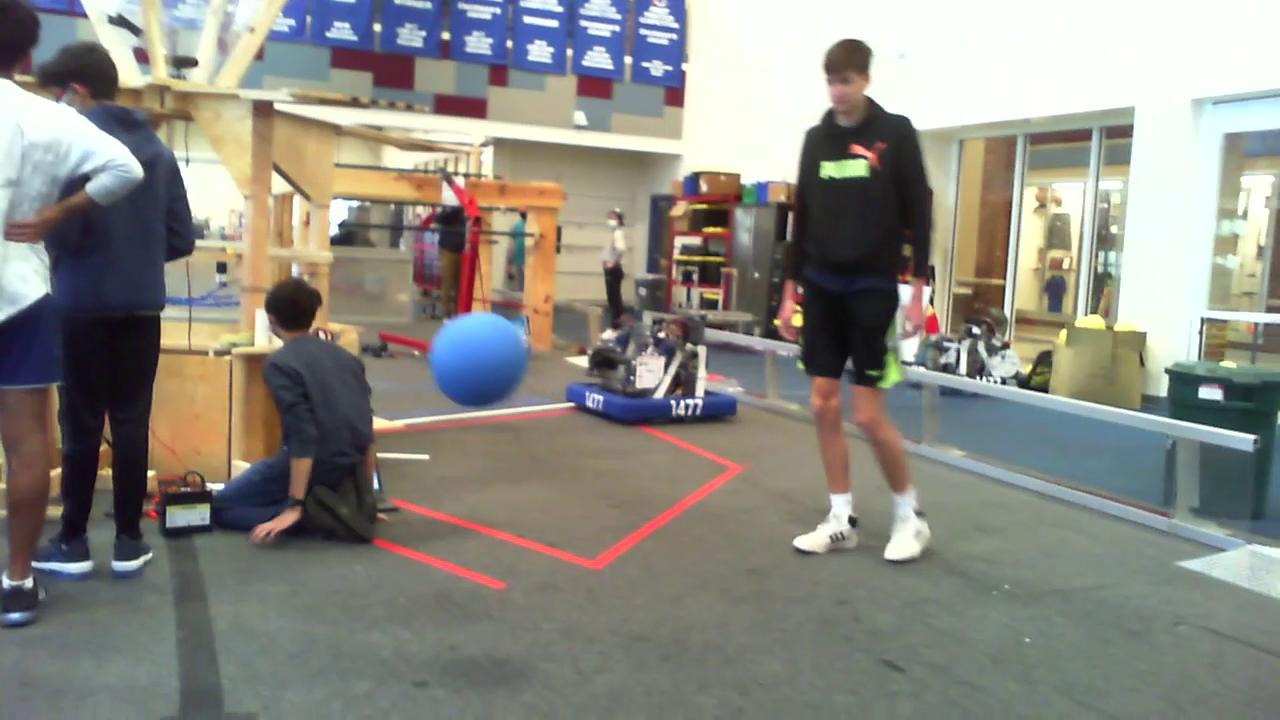robot: (562, 312, 736, 424)
